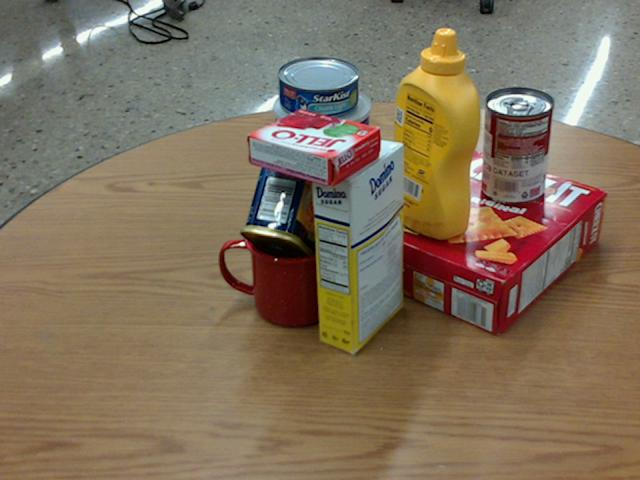cracker_box: (362, 150, 604, 335)
gelatin_box: (245, 108, 381, 187)
large_marker: (400, 109, 418, 210)
master_chef_can: (274, 83, 371, 239)
mug: (216, 209, 338, 326)
mustard_bottle: (386, 28, 480, 239)
potted_meat_can: (240, 145, 336, 266)
sugar_box: (309, 137, 402, 353)
tomato_soup_can: (480, 86, 552, 203)
tuna_fish_can: (277, 56, 359, 117)
